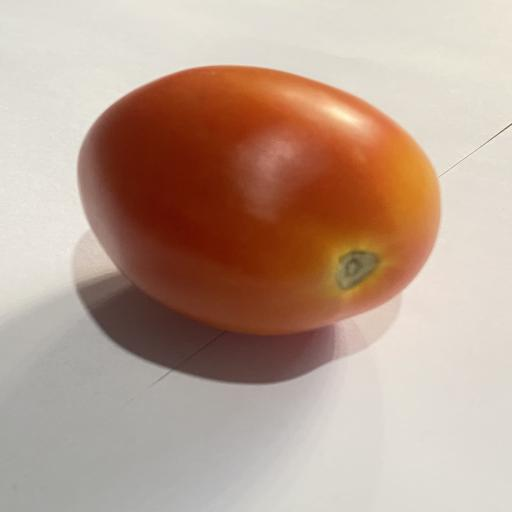ripe: (78, 66, 440, 334)
